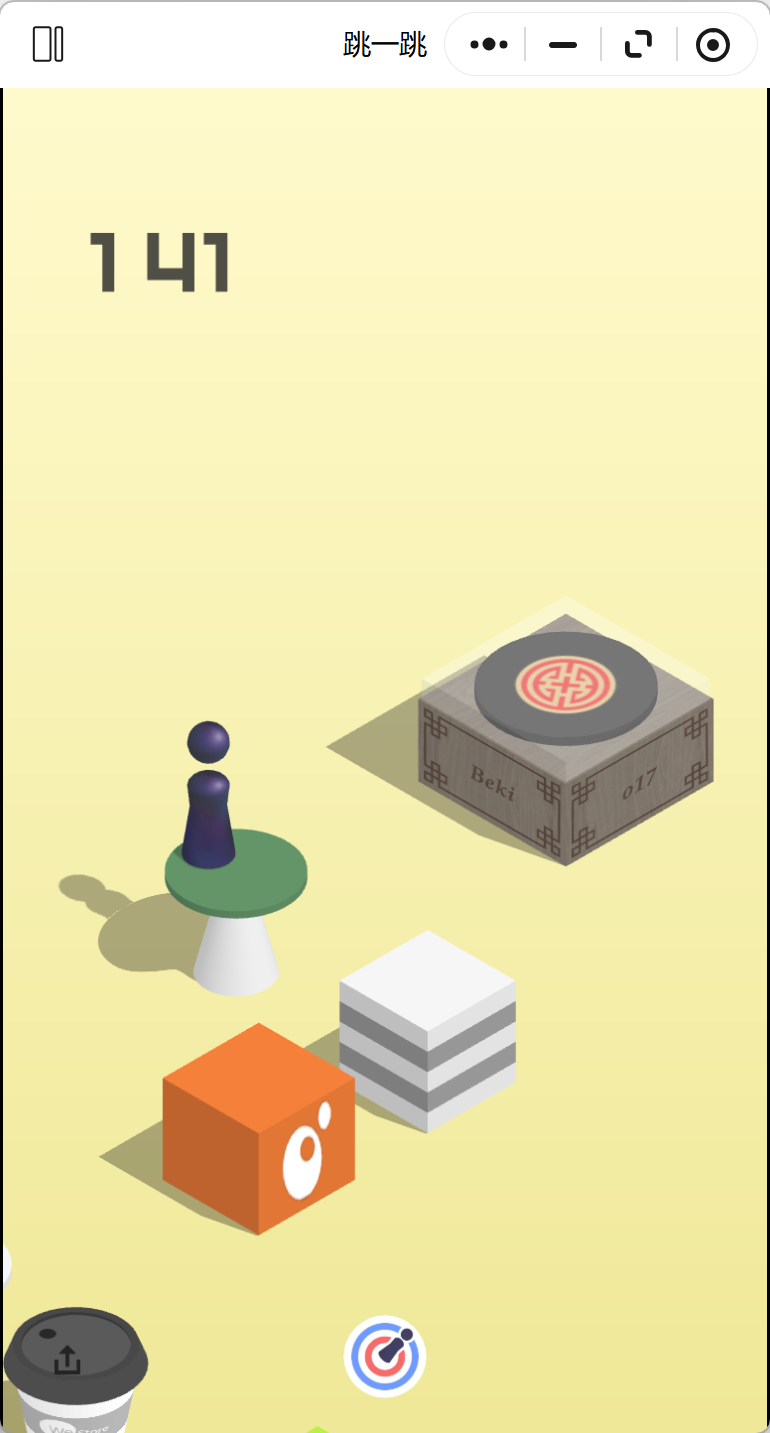piece: (177, 713, 236, 871)
platform: (422, 608, 718, 871)
